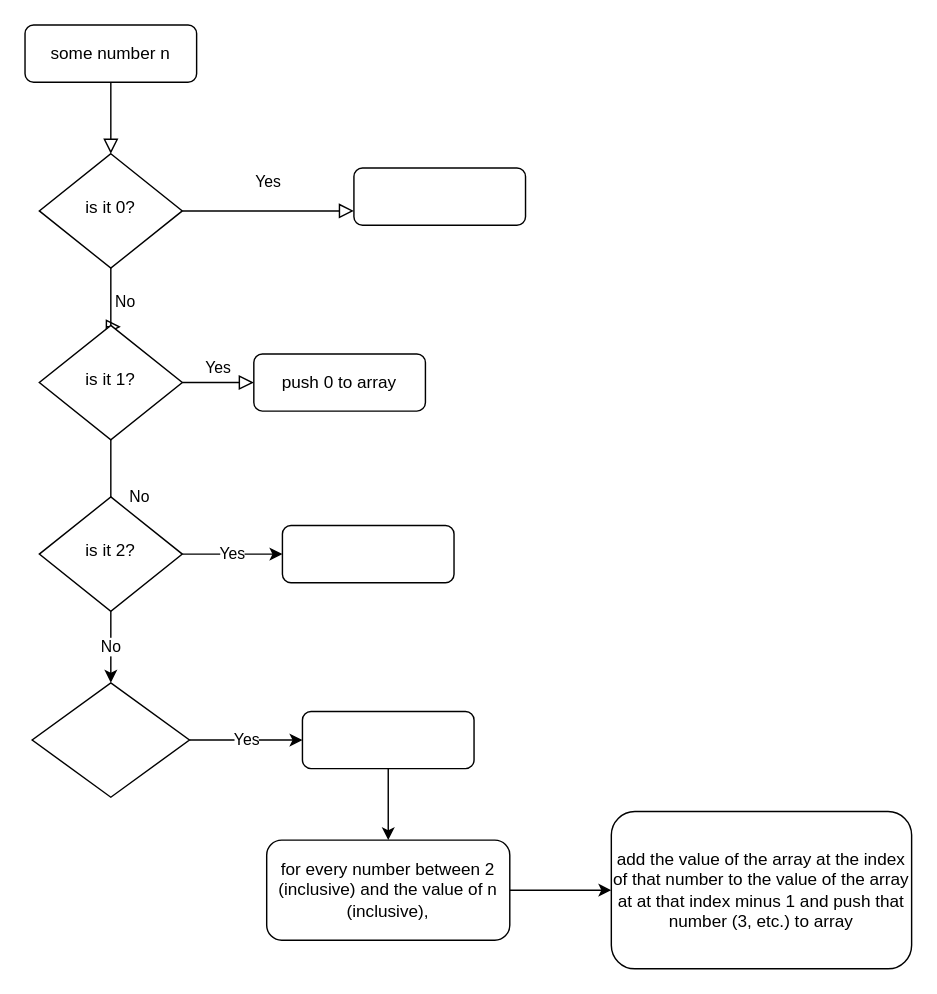
Image size: 937x994. Some labels were removed from this diagram. Here are the shapes that lost their labels. From the top down, the box of each, then its label:
(352, 167, 526, 225): return 0
(281, 524, 454, 583): push (0, 1) to array
(31, 681, 189, 797): Is it 3 or greater?
(301, 710, 474, 769): push (0, 1, 1) to array
